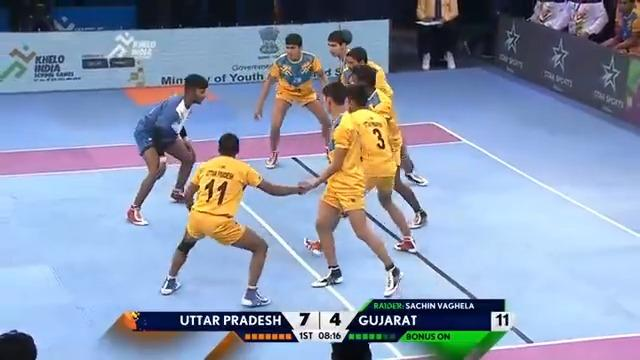Player: (159, 132, 310, 307), (298, 81, 404, 296), (252, 32, 332, 168)
Raider: (125, 73, 209, 226)
referee: (414, 0, 459, 70), (0, 329, 37, 359)
